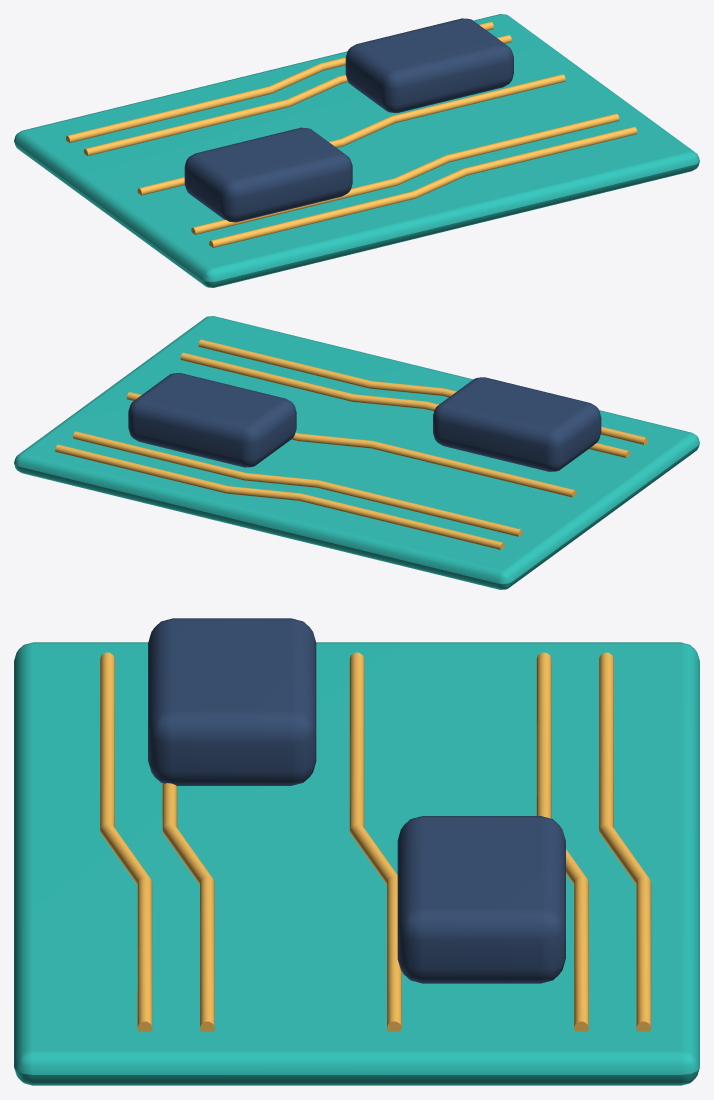
Rendered from printed-circuit-board-quality.glb.
The picture shows the model from 3 angles, top to bottom: view 1: azimuth 30°, elevation 25°; view 2: azimuth 150°, elevation 25°; view 3: azimuth 270°, elevation 25°; orthographic projection. The views are drawn at different scales.
Visible parts, largest first — view 1: PCB; view 2: PCB; view 3: PCB.
Boxes of the visible parts, x1,y1,x2,y2 form: PCB: (14,14,699,287); PCB: (14,316,699,589); PCB: (14,618,699,1085).
Bounding box in the file's own units: 1.6 × 0.195 × 1.1.
